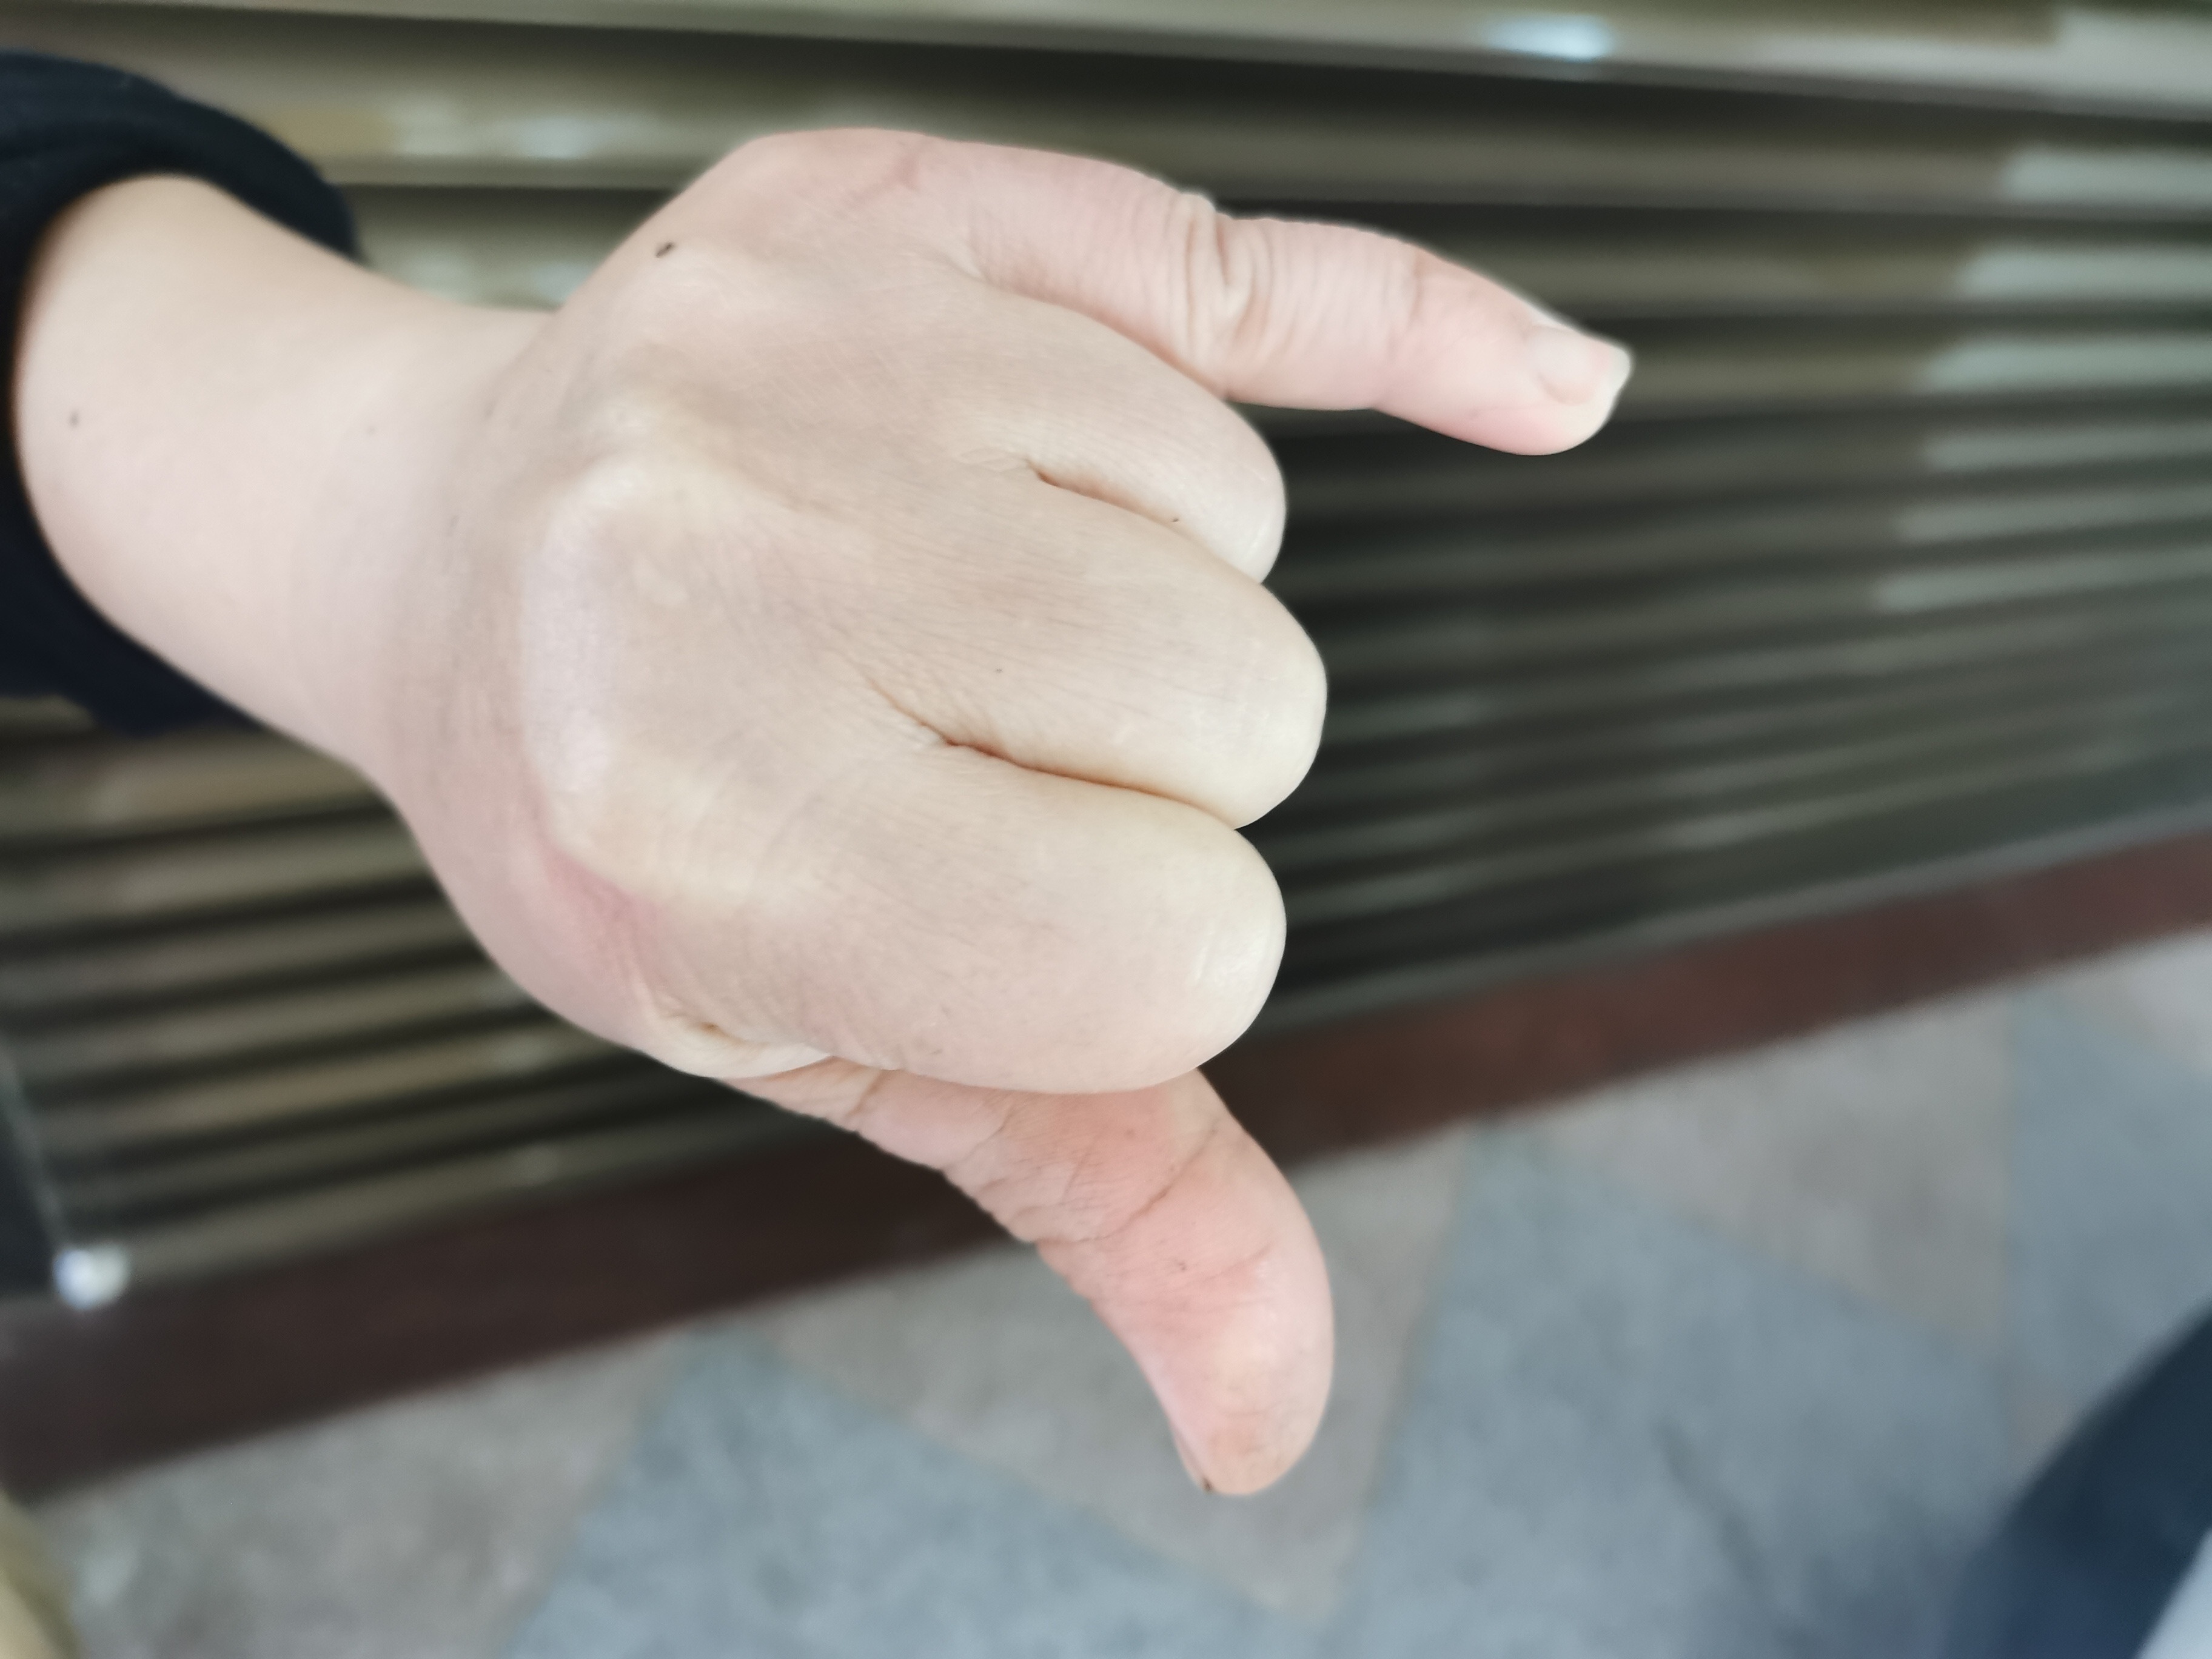clockwise: (366, 103, 1641, 1504)
